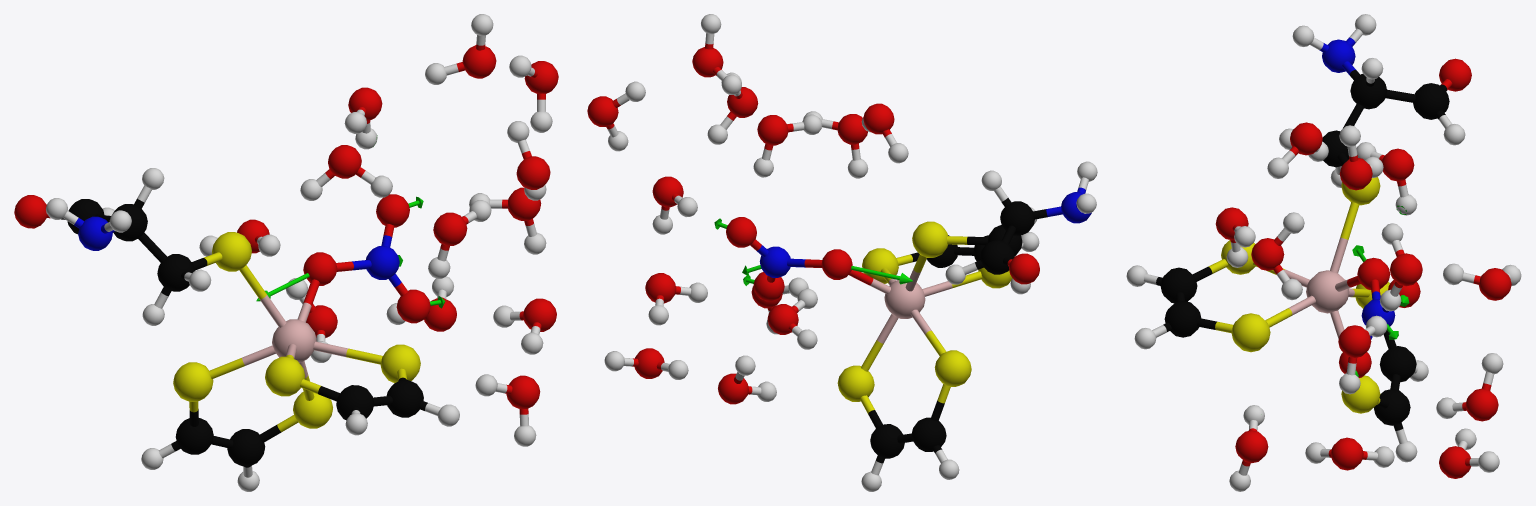
File: napas_12h2opcm_ts.glb
The picture shows the model from 3 angles, left to right: view 1: azimuth 30°, elevation 25°; view 2: azimuth 150°, elevation 25°; view 3: azimuth 270°, elevation 25°; orthographic projection. The views are drawn at different scales.
Parts seen in each view (by area): view 1: frame_18; view 2: frame_18; view 3: frame_18.
Boxes of the visible parts, bbox=[...] form: frame_18: bbox=[14, 14, 558, 491]; frame_18: bbox=[587, 14, 1097, 491]; frame_18: bbox=[1126, 14, 1521, 491].
Size of the model in its own units: 1.57 by 1.27 by 1.05.
